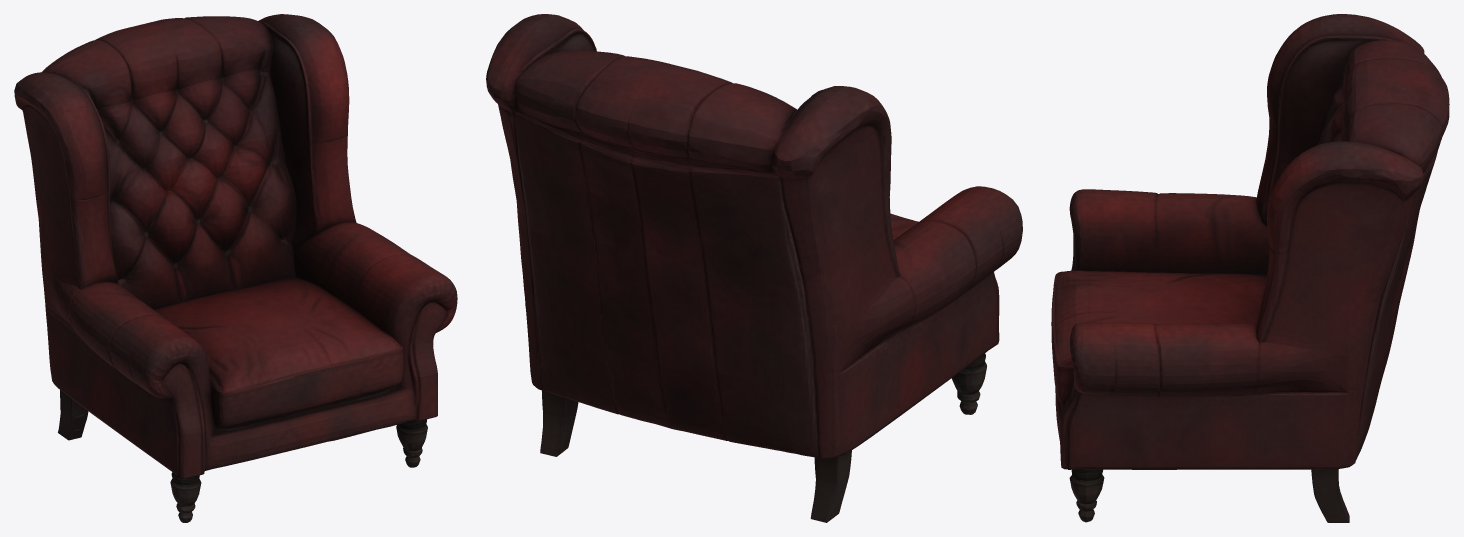
The model's file is fauteuil-rouge.glb.
3 views of the same model, side by side, from view 1: azimuth 30°, elevation 25°; view 2: azimuth 150°, elevation 25°; view 3: azimuth 270°, elevation 25° (orthographic). The views are drawn at different scales.
Visible parts, largest first — view 1: world; view 2: world; view 3: world.
Part boxes in pixels (box(x1,y1,x2,y2)): world: box(14, 14, 457, 522); world: box(486, 14, 1022, 522); world: box(1051, 14, 1449, 522).
Bounding box in the file's own units: 0.9164 × 1 × 0.9419.
1 material, 1 textured.
